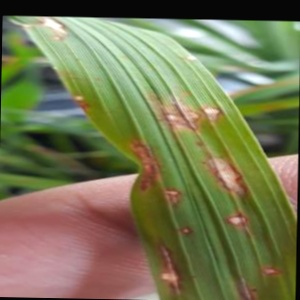Brown_Spot: (115, 136, 168, 196), (199, 149, 254, 199), (152, 239, 191, 295), (148, 90, 203, 129), (218, 204, 267, 235), (25, 18, 75, 47), (178, 41, 217, 77), (66, 86, 105, 116), (232, 274, 267, 300), (251, 255, 284, 281), (176, 217, 205, 244), (162, 182, 191, 206), (201, 97, 226, 124)
